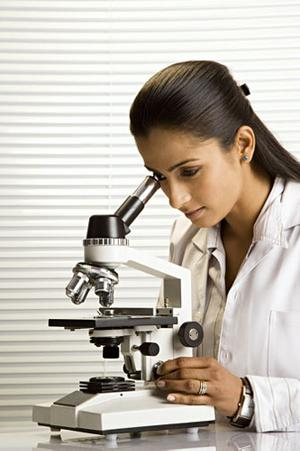person: (131, 60, 299, 432)
